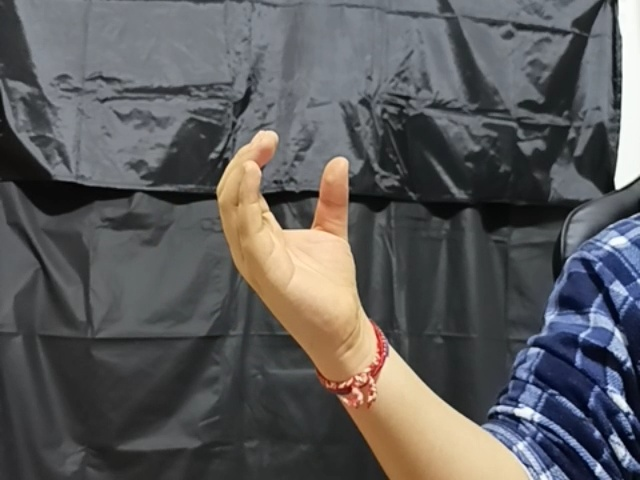C: (213, 126, 378, 365)
